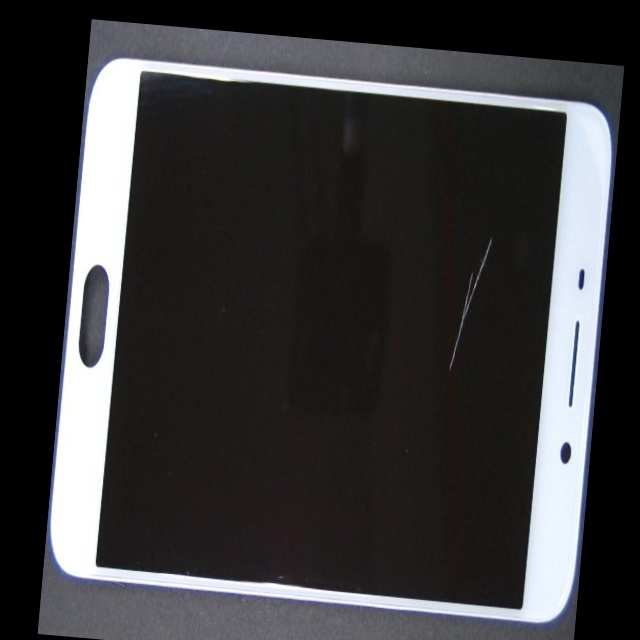scratch: (267, 49, 623, 400)
